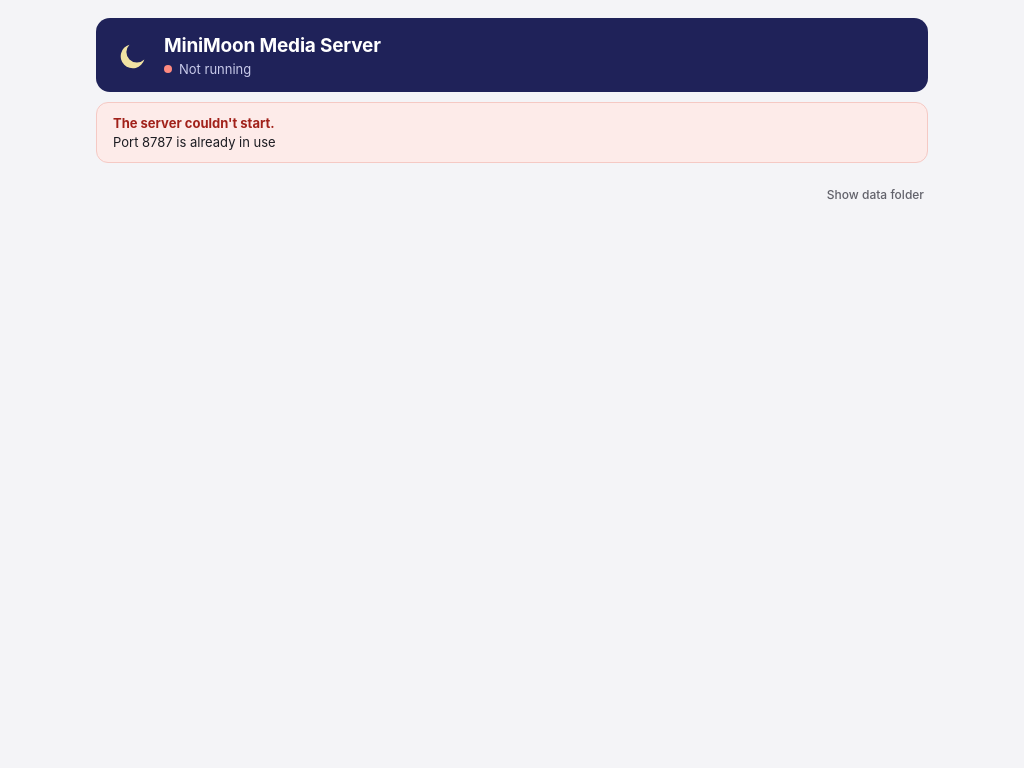
it: before the server runs › a data folder that won't open shows the error
Step 1. Click the button "Show data folder" → (875, 196), box left=821, top=183, right=930, bottom=208
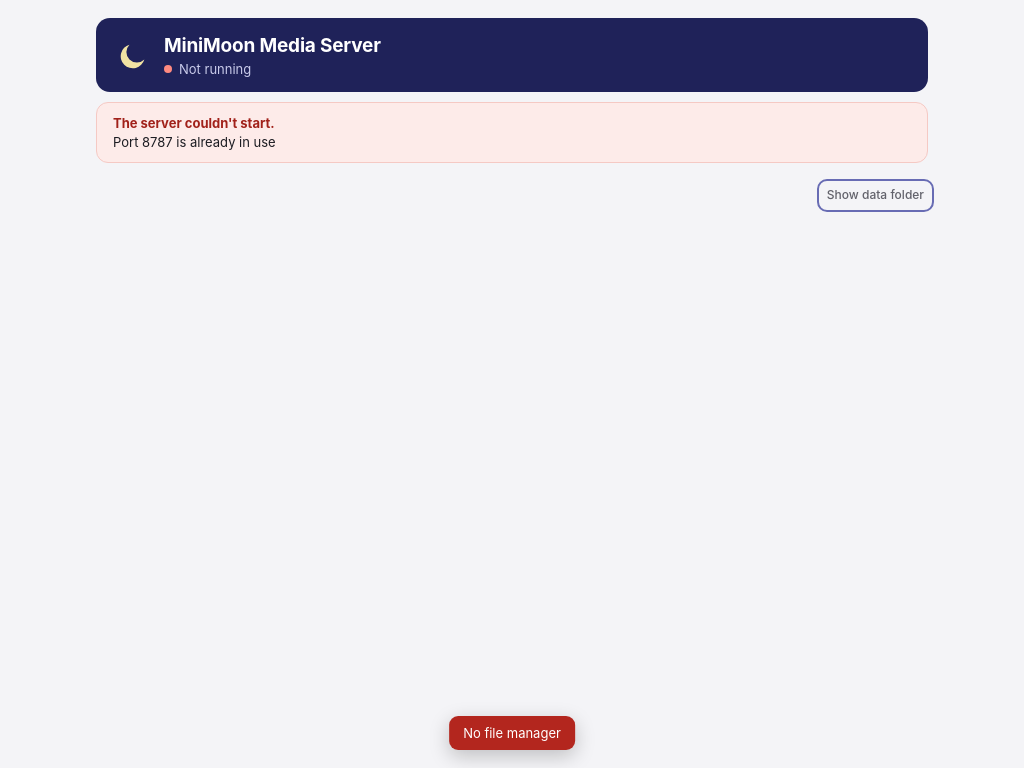
Expected: the message reads "No file manager", left=463, top=725, right=561, bottom=741
